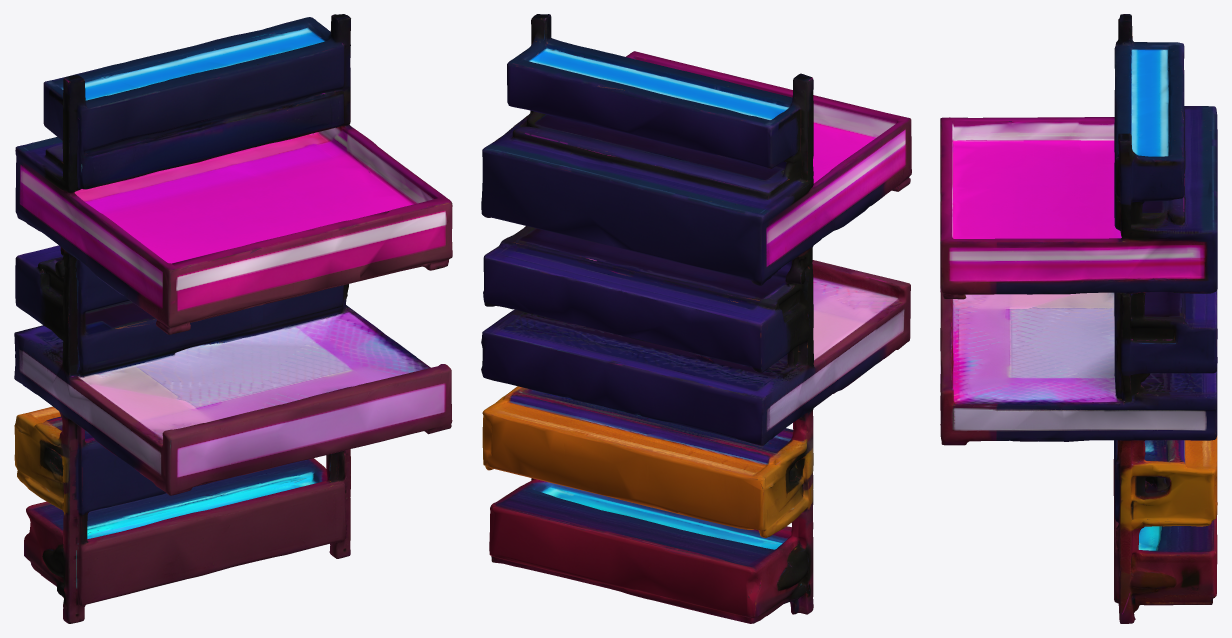
File: ximen_neon_horizontal_01.glb
3 renders of one model, left to right at view 1: azimuth 30°, elevation 25°; view 2: azimuth 150°, elevation 25°; view 3: azimuth 270°, elevation 25°, orthographic. The views are drawn at different scales.
Bounding box in the file's own units: 1.13 × 2 × 1.03.
1 material, 1 textured.
